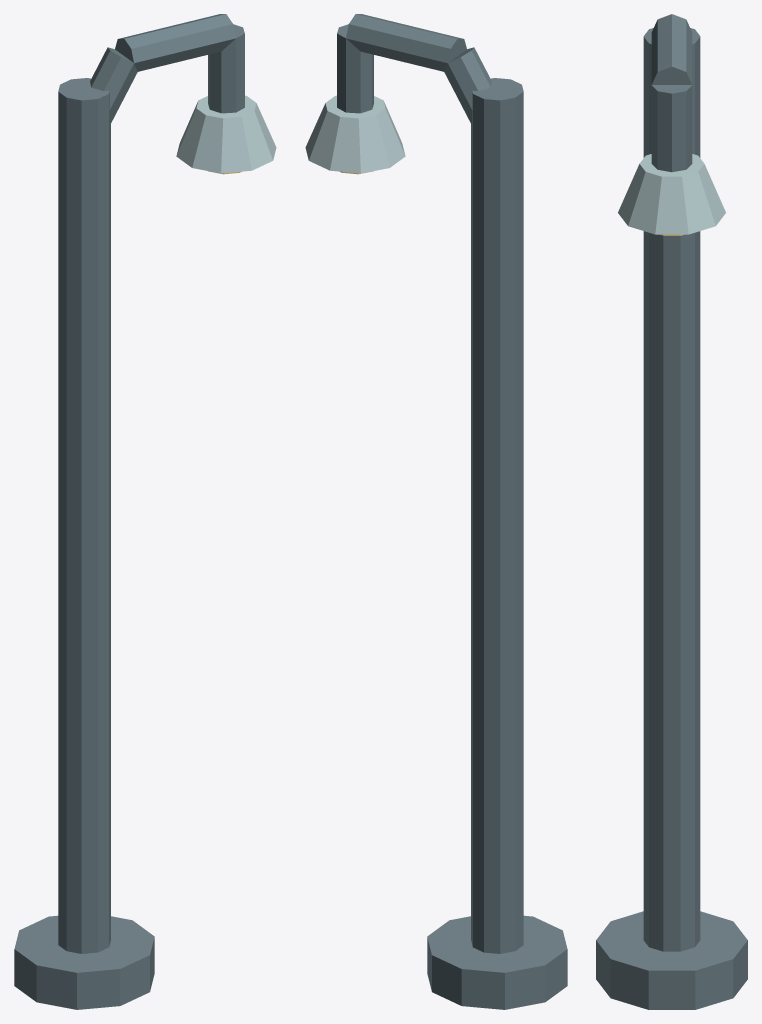
File: StreetLamp_CurvedDownward.glb
The picture shows the model from 3 angles, left to right: view 1: azimuth 30°, elevation 25°; view 2: azimuth 150°, elevation 25°; view 3: azimuth 270°, elevation 25°; orthographic projection. The views are drawn at different scales.
Parts seen in each view (by area): view 1: FTF_StreetLamp_CurvedDownward_4m_Mesh; view 2: FTF_StreetLamp_CurvedDownward_4m_Mesh; view 3: FTF_StreetLamp_CurvedDownward_4m_Mesh.
Part boxes in pixels (x1,y1,x2,y2): FTF_StreetLamp_CurvedDownward_4m_Mesh: (14, 14, 276, 1009); FTF_StreetLamp_CurvedDownward_4m_Mesh: (305, 14, 567, 1009); FTF_StreetLamp_CurvedDownward_4m_Mesh: (596, 14, 747, 1009).
Size of the model in its own units: 1.1 by 4.01 by 0.56.
